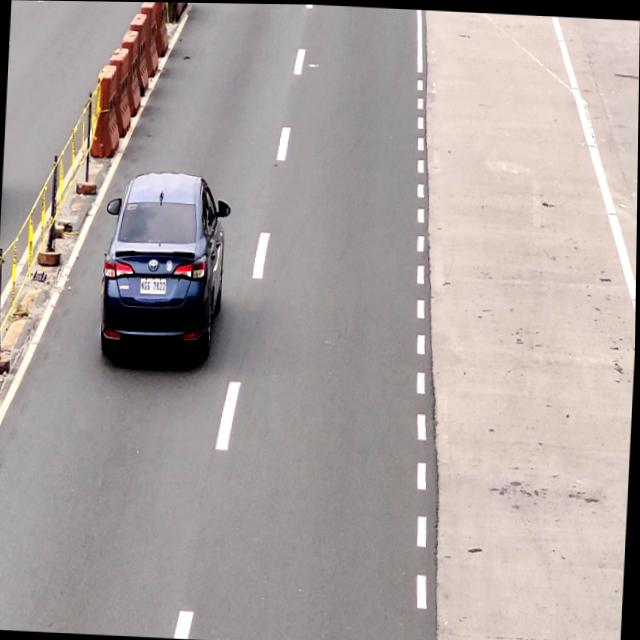Car: (98, 171, 234, 360)
License-Plate: (138, 274, 168, 296)
